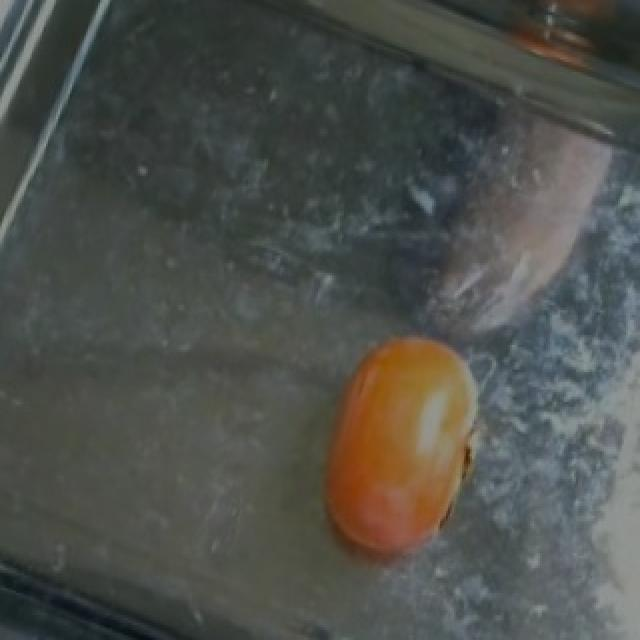Fruit: (308, 318, 498, 578)
